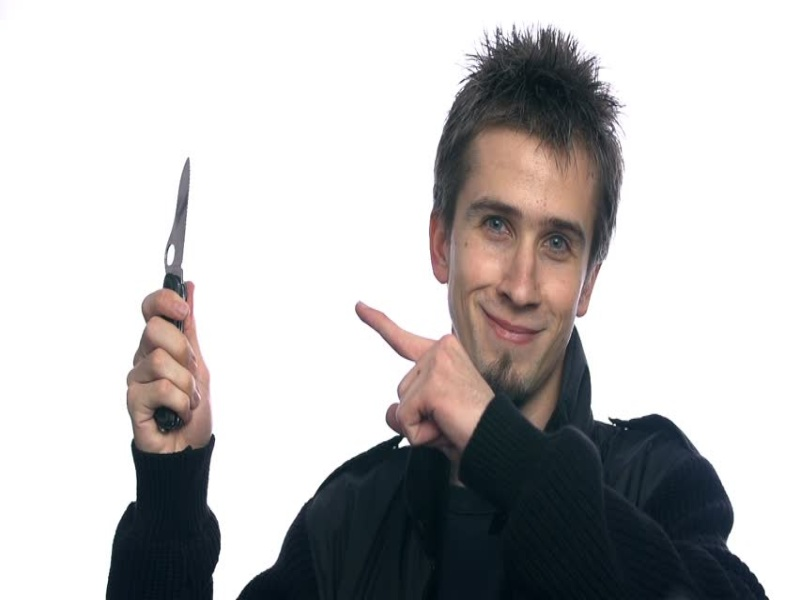hand: (350, 300, 497, 455), (125, 282, 216, 460)
knife: (163, 157, 191, 297)
person: (103, 23, 772, 600)
